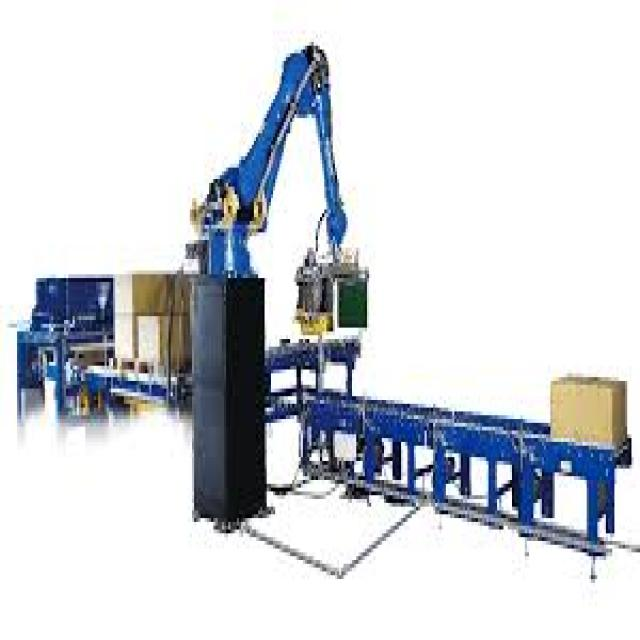Robotic-arm: (185, 10, 358, 290)
